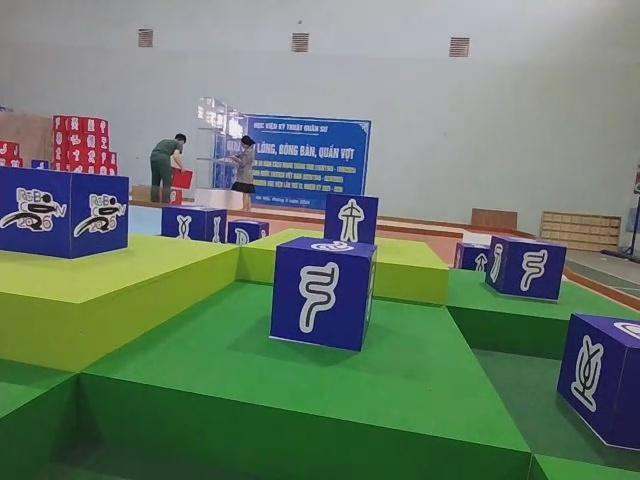R1 Blue: (0, 168, 130, 262)
R2 Fake Blue: (272, 235, 380, 354), (485, 236, 566, 304), (323, 193, 378, 247)
R2 Real Blue: (560, 315, 640, 457), (163, 205, 229, 245), (455, 242, 494, 273), (225, 218, 268, 244)
